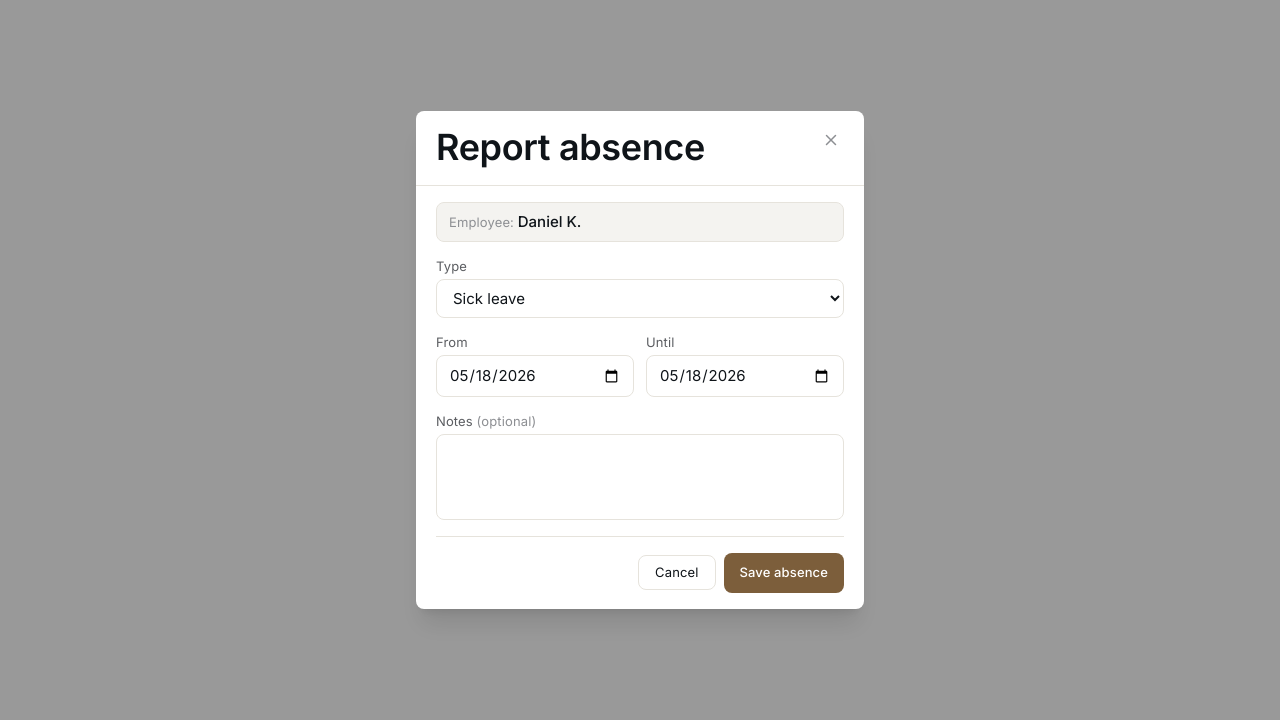
Scenario: ReportAbsenceModal (ELE-204) › Success-Panel zeigt "no planned tasks"-Hinweis bei 0 affected
Click the button with test id "report-absence-submit": (784, 573) [724,553,844,593]
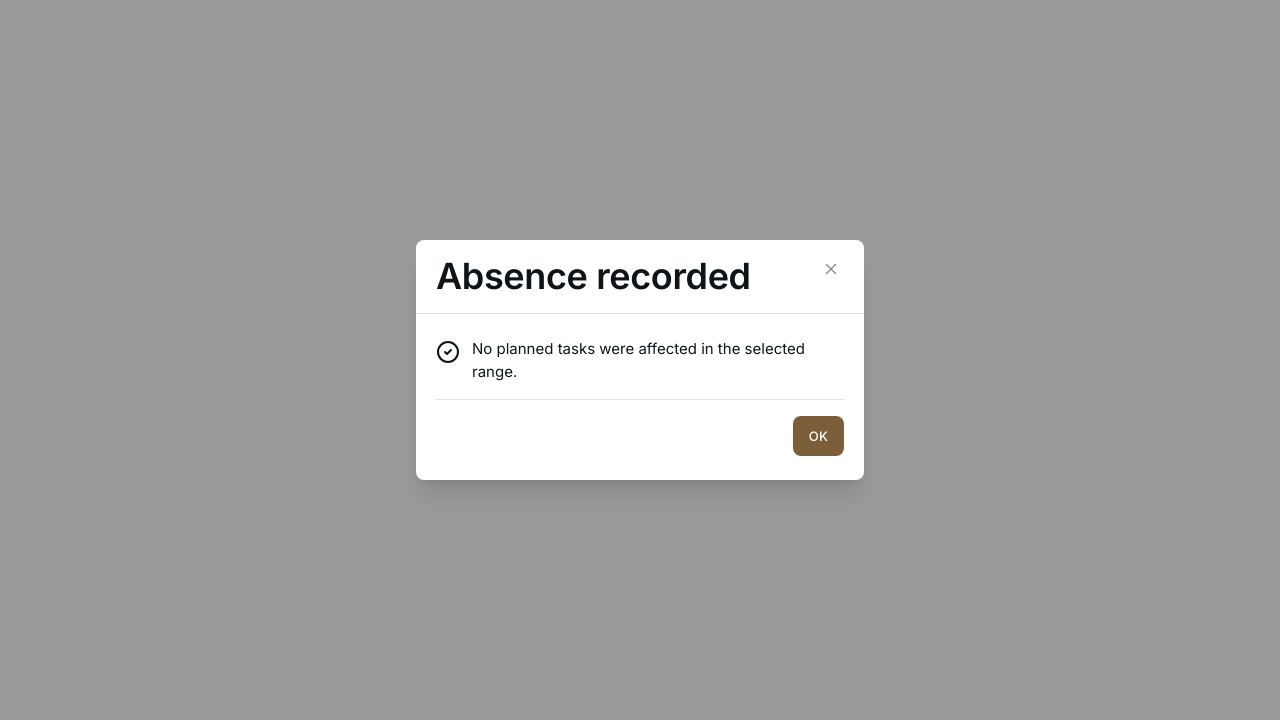
Expected: the element with test id "report-absence-success" shows "No planned tasks", [472,339,805,381]
